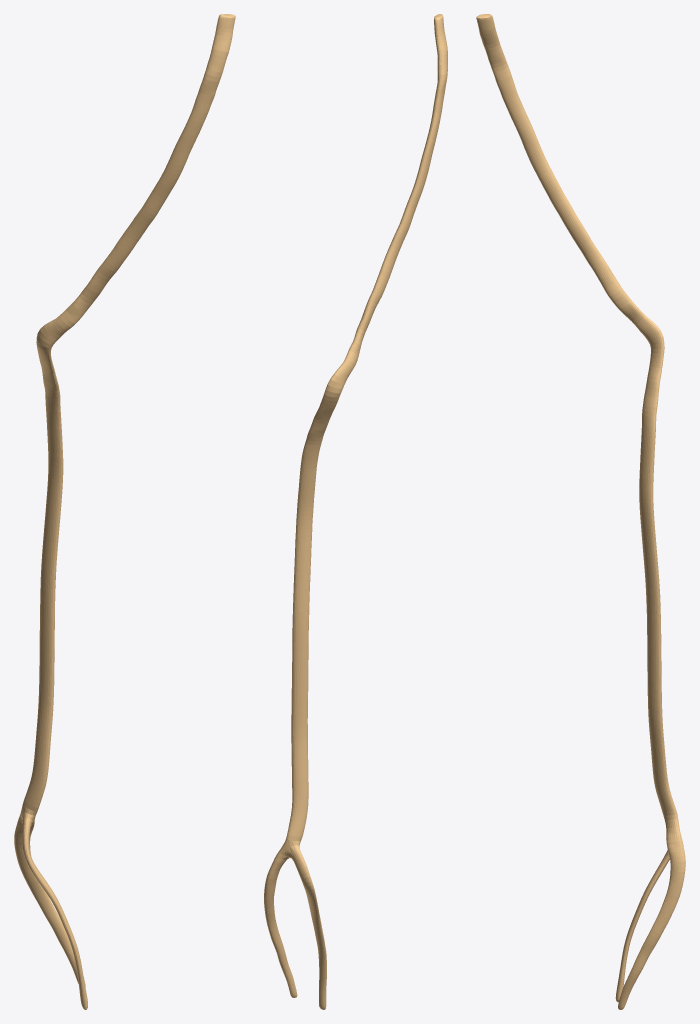
File: N_ulnar.glb
3 renders of one model, left to right at view 1: azimuth 90°, elevation 25°; view 2: azimuth 150°, elevation 25°; view 3: azimuth 270°, elevation 25°, orthographic. The views are drawn at different scales.
Parts seen in each view (by area): view 1: N_ulnar; view 2: N_ulnar; view 3: N_ulnar.
Boxes of the visible parts, x1,y1,x2,y2 form: N_ulnar: [14, 14, 235, 1009]; N_ulnar: [264, 14, 447, 1009]; N_ulnar: [476, 14, 685, 1009].
Bounding box in the file's own units: 0.00123 × 0.0116 × 0.00228.
